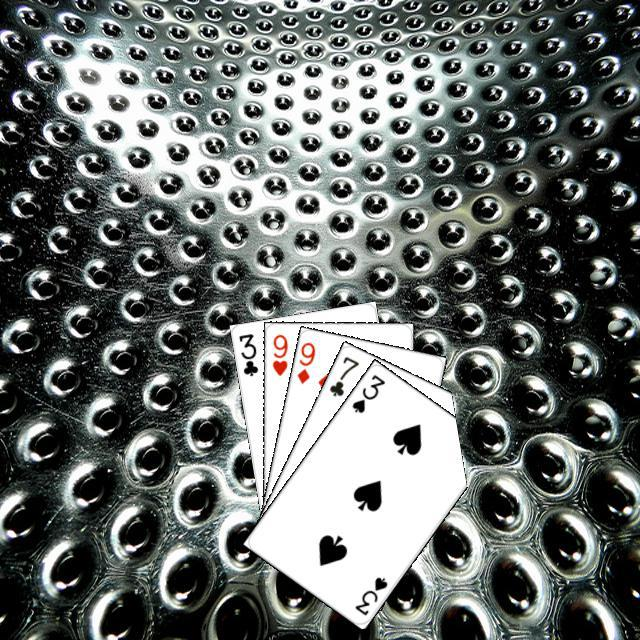3c: (234, 329, 260, 378)
3s: (347, 369, 387, 415), (350, 572, 389, 617)
7c: (324, 351, 360, 398)
9d: (292, 337, 317, 386)
9h: (267, 329, 289, 378)
